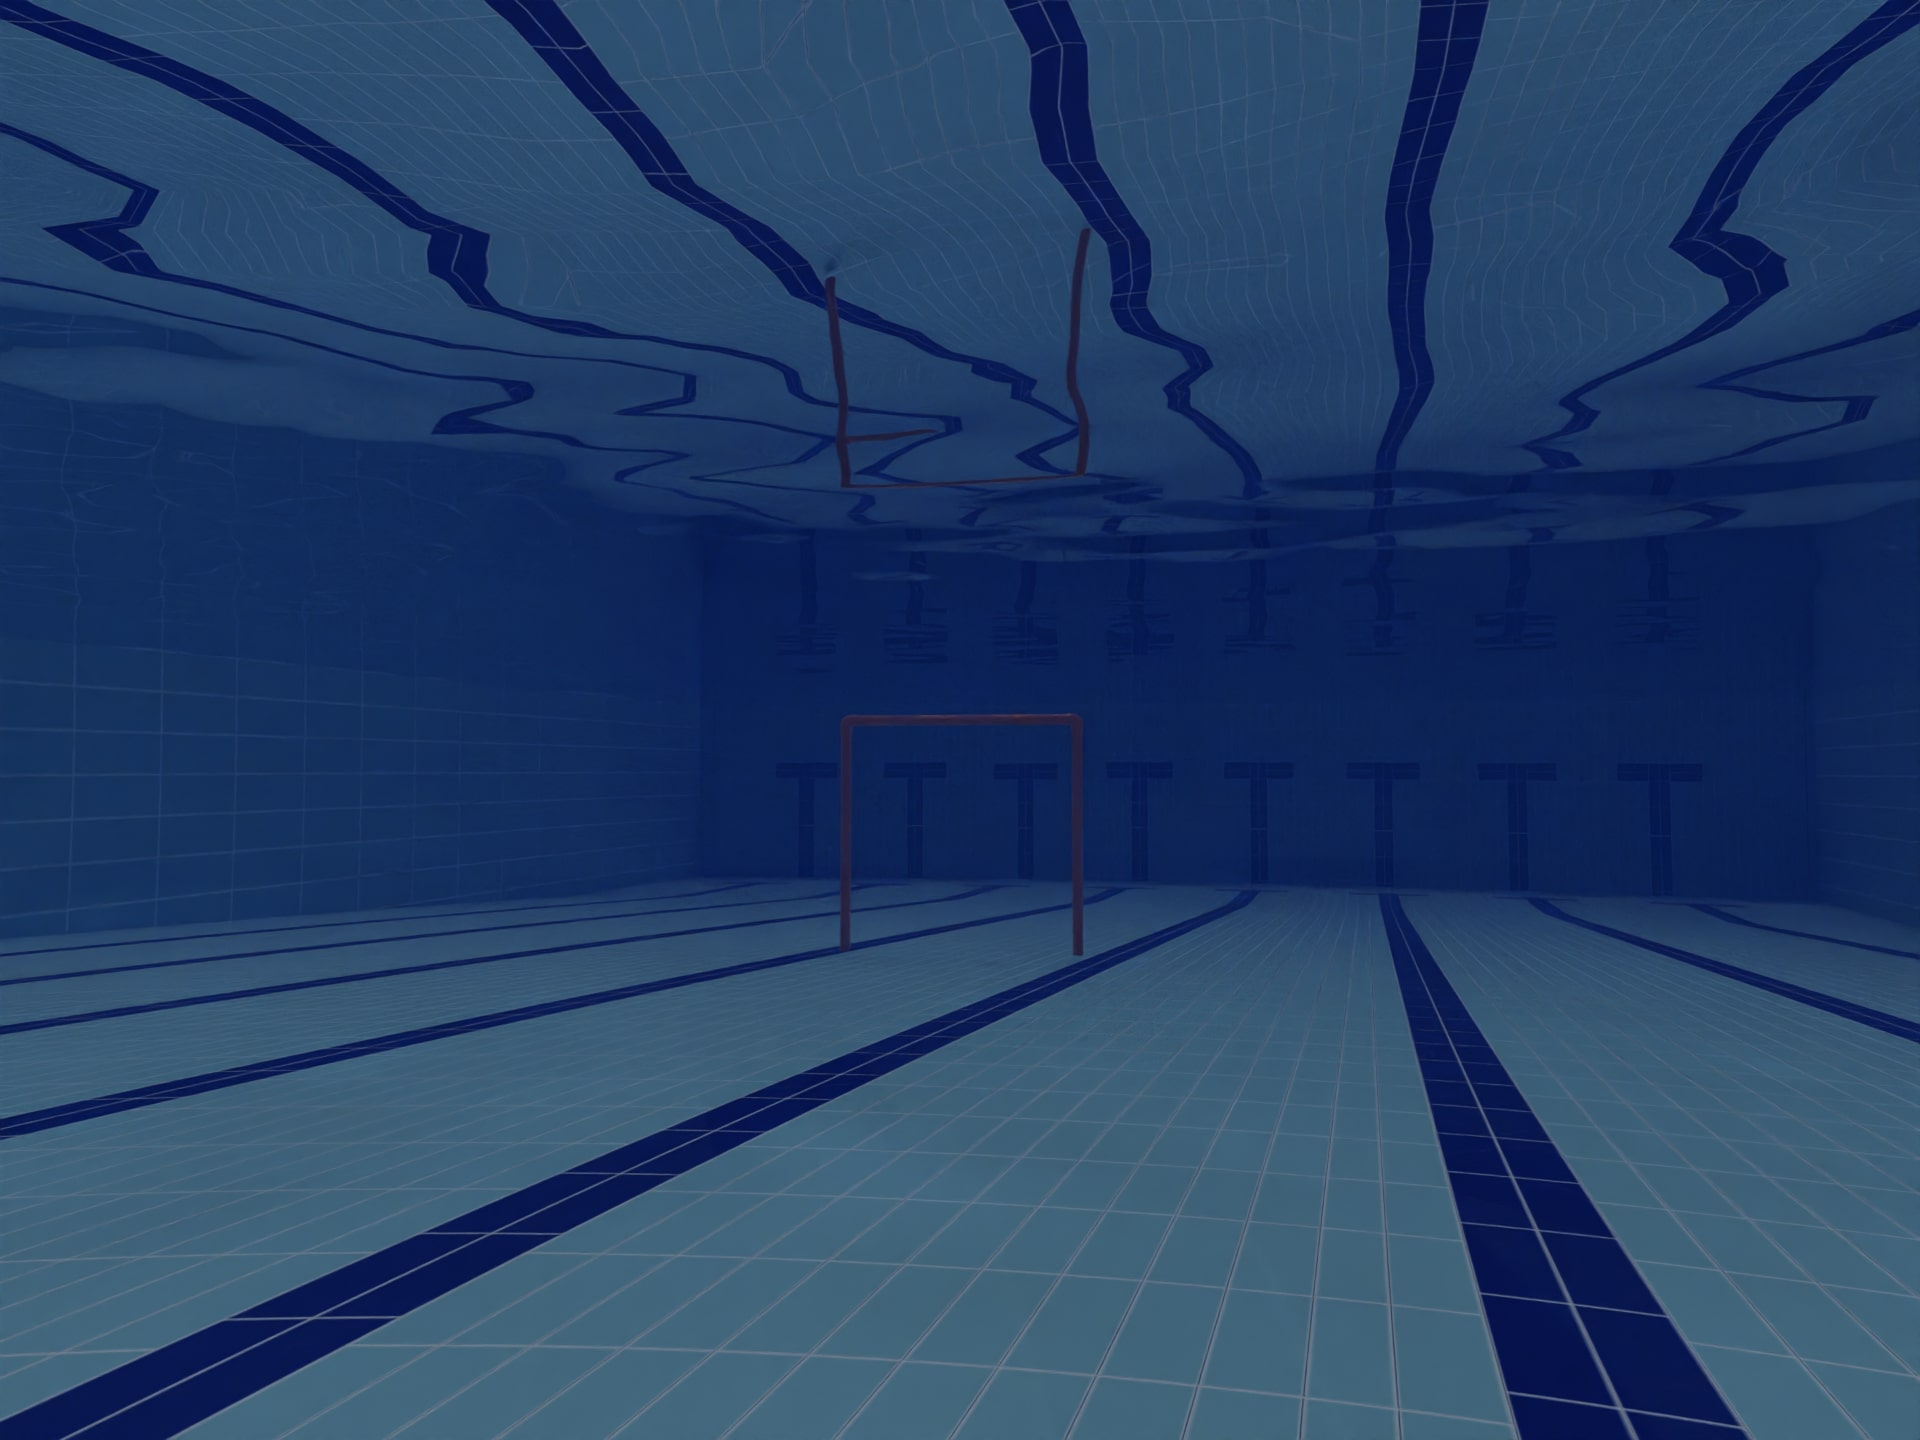gate: (804, 681, 1163, 1026)
